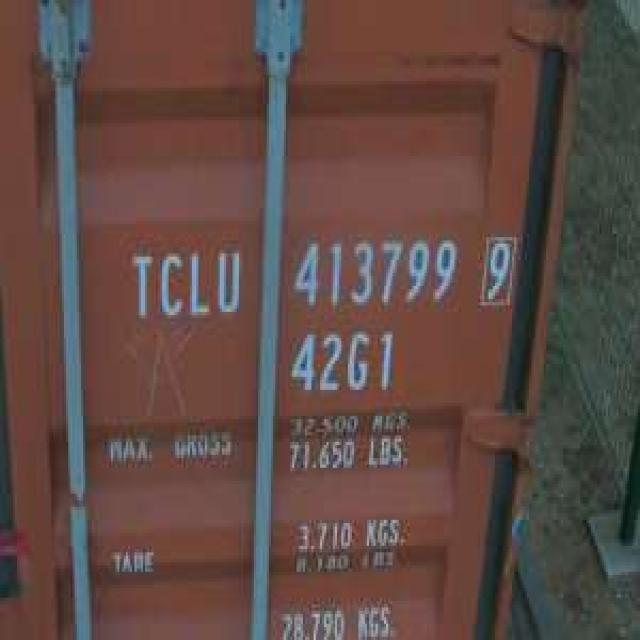dv: (476, 224, 518, 312)
owner: (124, 241, 245, 328)
serial: (286, 227, 459, 312)
size: (284, 322, 399, 402)
